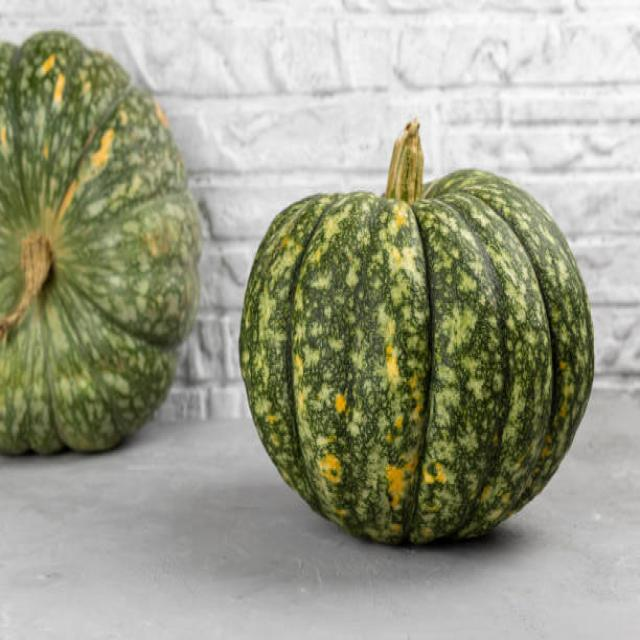pumpkin: (238, 165, 598, 553), (0, 30, 201, 456)
